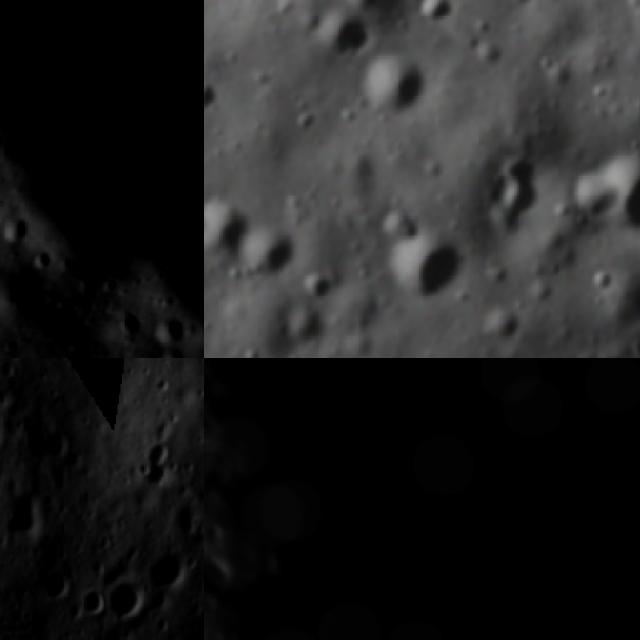crater: (382, 220, 472, 312), (345, 54, 438, 126), (571, 150, 640, 239), (474, 155, 544, 242), (237, 226, 306, 292), (204, 190, 249, 270), (321, 11, 373, 77), (141, 544, 200, 598), (96, 577, 148, 628), (476, 309, 522, 357), (147, 306, 188, 352), (408, 0, 465, 30), (303, 264, 343, 304), (204, 559, 236, 608), (78, 582, 110, 616), (347, 0, 387, 24), (204, 78, 218, 120)
